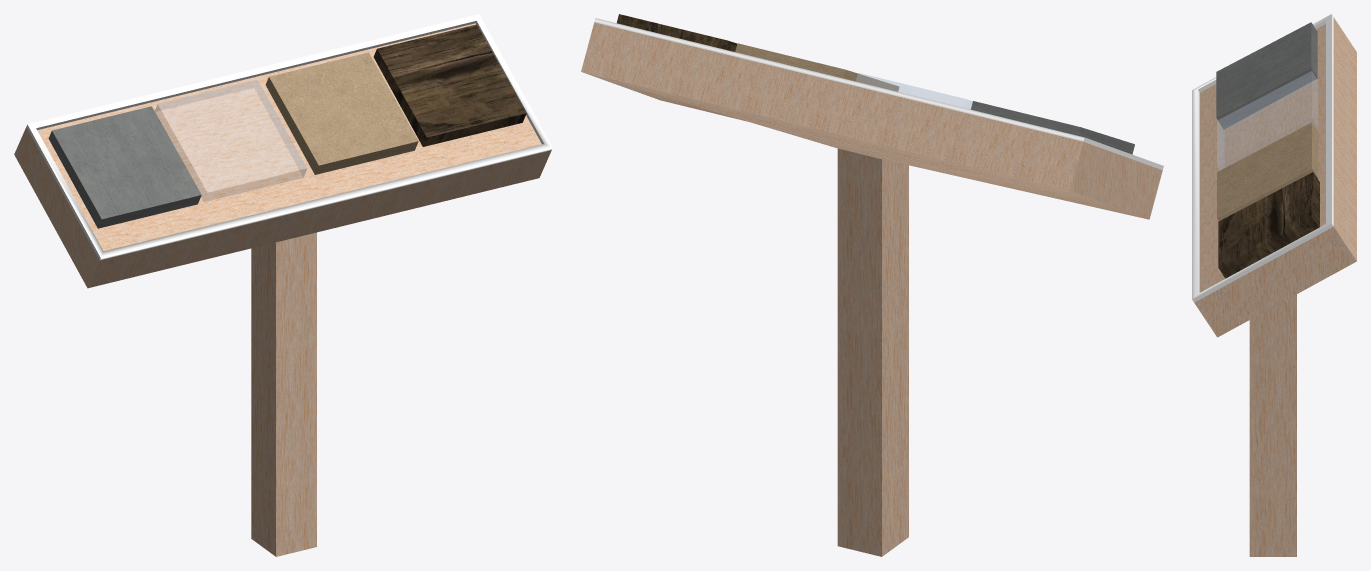
Rendered from MaterialSelector.glb.
3 views of the same model, side by side, from view 1: azimuth 30°, elevation 25°; view 2: azimuth 150°, elevation 25°; view 3: azimuth 270°, elevation 25° (orthographic). The views are drawn at different scales.
Parts seen in each view (by area): view 1: MaterialSelector, Cube.003, Cube.002, Cube, Cube.001, MaterialSelectorFrame; view 2: MaterialSelector, MaterialSelectorFrame, Cube, Cube.002, Cube.003, Cube.001; view 3: MaterialSelector, Cube, Cube.003, Cube.001, Cube.002, MaterialSelectorFrame.
Part boxes in pixels (x1,y1,x2,y2): MaterialSelector: (14,23,551,556); Cube.003: (373,24,526,146); Cube.002: (265,52,418,174); Cube: (48,106,201,228); Cube.001: (155,80,306,201); MaterialSelectorFrame: (26,14,552,260); MaterialSelector: (581,22,1162,556); MaterialSelectorFrame: (594,18,1163,170); Cube: (971,101,1134,154); Cube.002: (735,43,899,91); Cube.003: (617,14,736,51); Cube.001: (856,73,972,109); MaterialSelector: (1194,17,1356,556); Cube: (1216,22,1317,129); Cube.003: (1218,172,1319,278); Cube.001: (1217,71,1317,170); Cube.002: (1217,122,1318,220); MaterialSelectorFrame: (1192,14,1333,302).
Size of the model in its own units: 1.47 by 1.4 by 0.4891.
6 materials, 4 textured.
